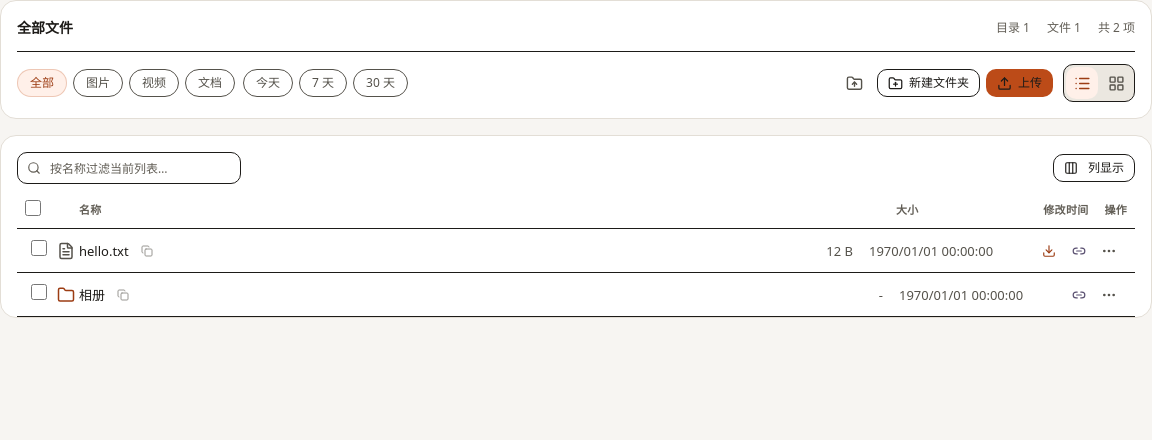
Test: lists files and navigates into folder
The width and height of the screenshot is (1152, 440).
Expected: the button "hello.txt" is shown, x1=79 y1=240 x2=129 y2=260
Double-click the button "相册": x=92, y=294 x1=79 y1=284 x2=105 y2=304
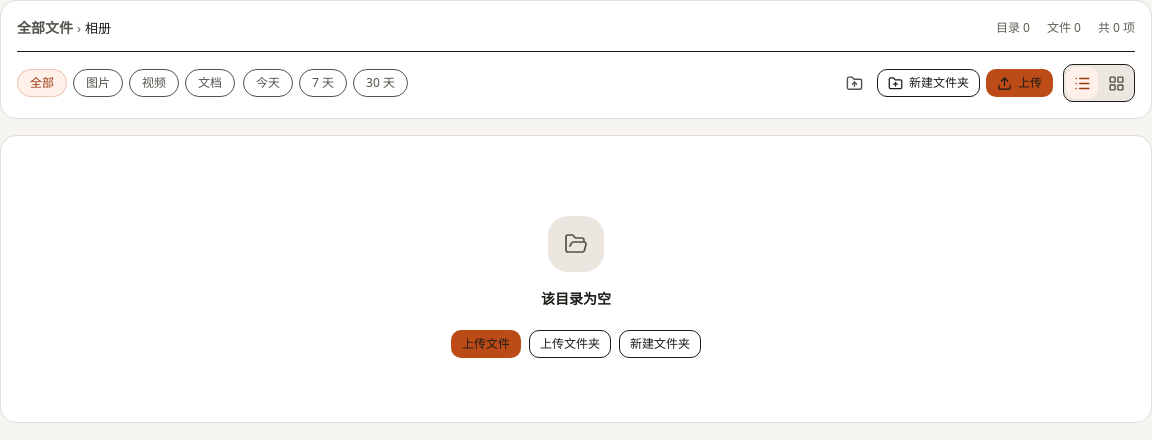
Result: the heading "该目录为空" is shown at x1=541 y1=288 x2=611 y2=310
